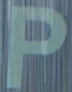Parking: (8, 5, 65, 84)
